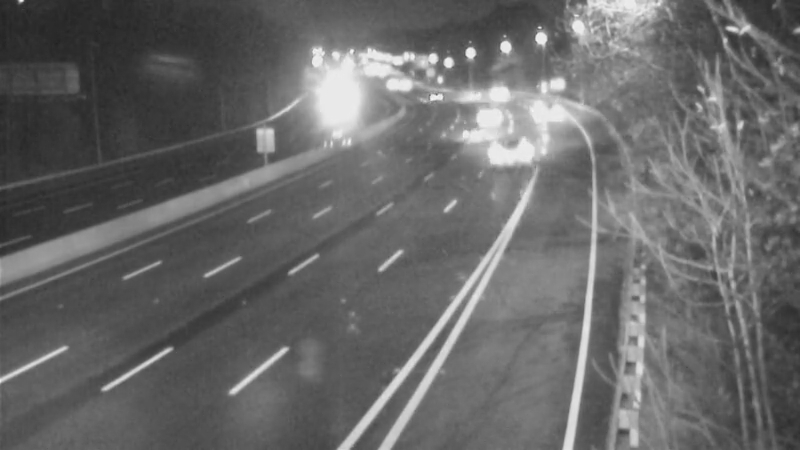vehicle: (470, 69, 520, 119), (409, 70, 459, 120), (526, 90, 576, 140), (462, 88, 512, 138), (441, 109, 491, 159), (486, 121, 536, 171)
